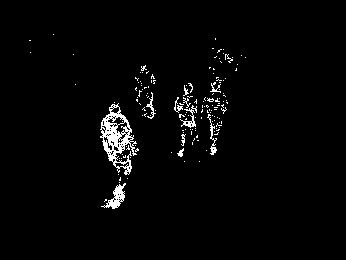person: (98, 103, 139, 210), (171, 83, 199, 158), (203, 82, 227, 155)
